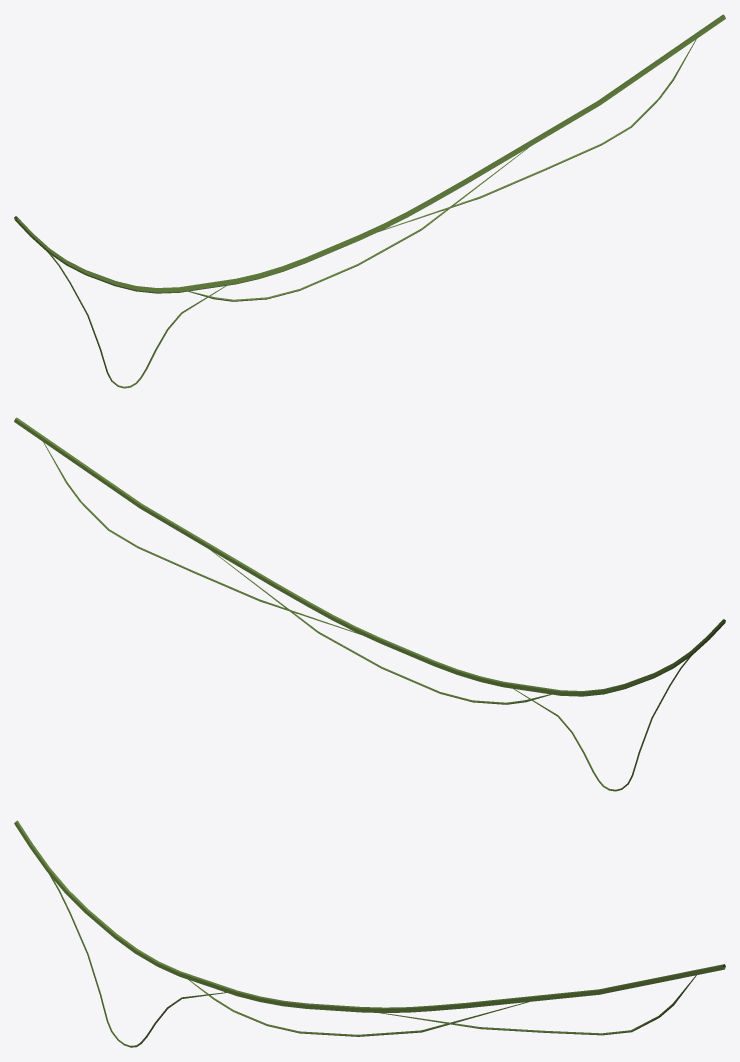
File: SM_liana_jungle_01.fbx
3 renders of one model, top to bottom at view 1: azimuth 30°, elevation 25°; view 2: azimuth 150°, elevation 25°; view 3: azimuth 330°, elevation 25°, orthographic.
Parts seen in each view (by area): view 1: Line012; view 2: Line012; view 3: Line012.
Part boxes in pixels (bbox=[...]): Line012: bbox=[14, 14, 725, 388]; Line012: bbox=[14, 417, 725, 791]; Line012: bbox=[14, 820, 725, 1047].
Bounding box in the file's own units: 509 × 156 × 3.53.
